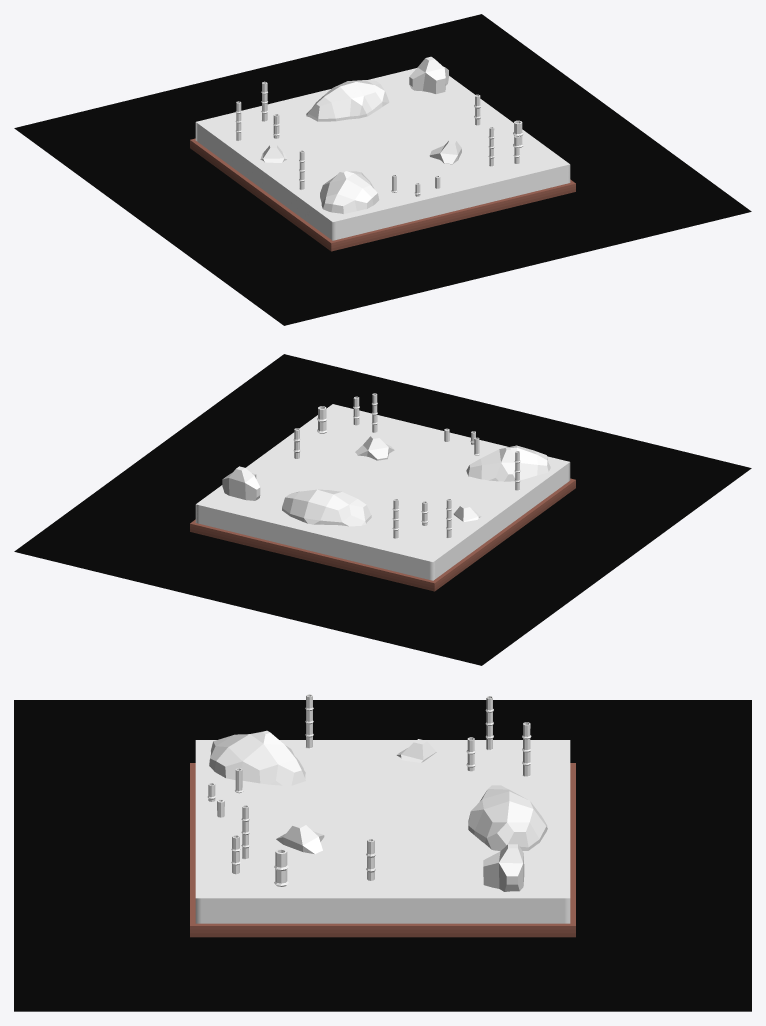
3 views of the same model, one above another, from view 1: azimuth 30°, elevation 25°; view 2: azimuth 150°, elevation 25°; view 3: azimuth 270°, elevation 25° (orthographic). The views are drawn at different scales.
Visible parts, largest first — view 1: AO, Water, Plane.001, Rock.002, Rock, Rock.001, Rock.009; view 2: AO, Water, Plane.001, Rock.002, Rock, Rock.001, Rock.009; view 3: AO, Water, Plane.001, Rock, Rock.002, Rock.001, Rock.009, Rock.003.
Boxes of the visible parts, box(x1,y1,x2,y2) form: AO: box(14, 14, 751, 325); Water: box(195, 68, 570, 240); Plane.001: box(190, 138, 575, 251); Rock.002: box(306, 80, 389, 121); Rock: box(320, 170, 379, 214); Rock.001: box(409, 56, 448, 93); Rock.009: box(429, 140, 461, 164); AO: box(14, 354, 751, 665); Water: box(195, 404, 570, 580); Plane.001: box(190, 478, 575, 591); Rock.002: box(282, 489, 371, 526); Rock: box(466, 445, 550, 481); Rock.001: box(222, 466, 260, 500); Rock.009: box(355, 435, 394, 460); AO: box(14, 700, 751, 1011); Water: box(195, 740, 570, 923); Plane.001: box(190, 763, 575, 937); Rock: box(209, 730, 305, 785); Rock.002: box(468, 785, 547, 850); Rock.001: box(483, 844, 524, 891); Rock.009: box(276, 822, 324, 853); Rock.003: box(396, 739, 436, 762).
Size of the model in its own units: 4.72 by 0.8423 by 4.72.
